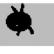not correct: (4, 4, 36, 38)
